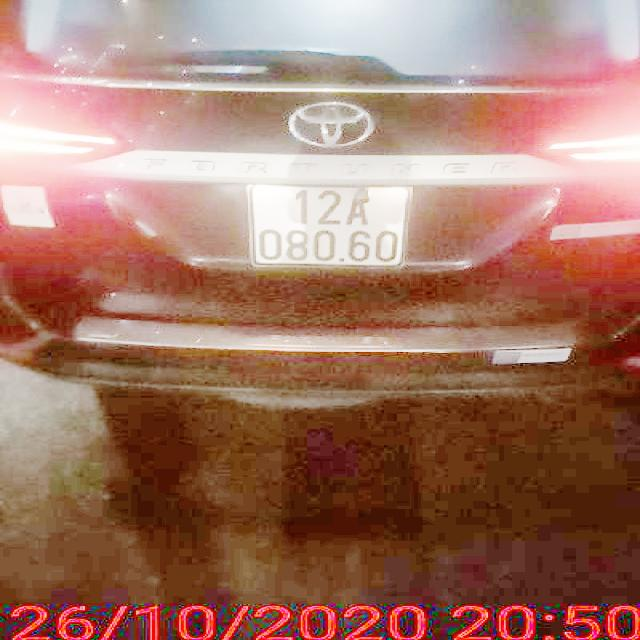license_plate: (252, 184, 412, 268)
